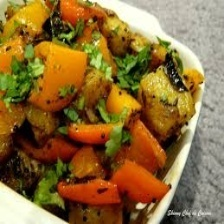sabzi: (0, 0, 202, 224)
